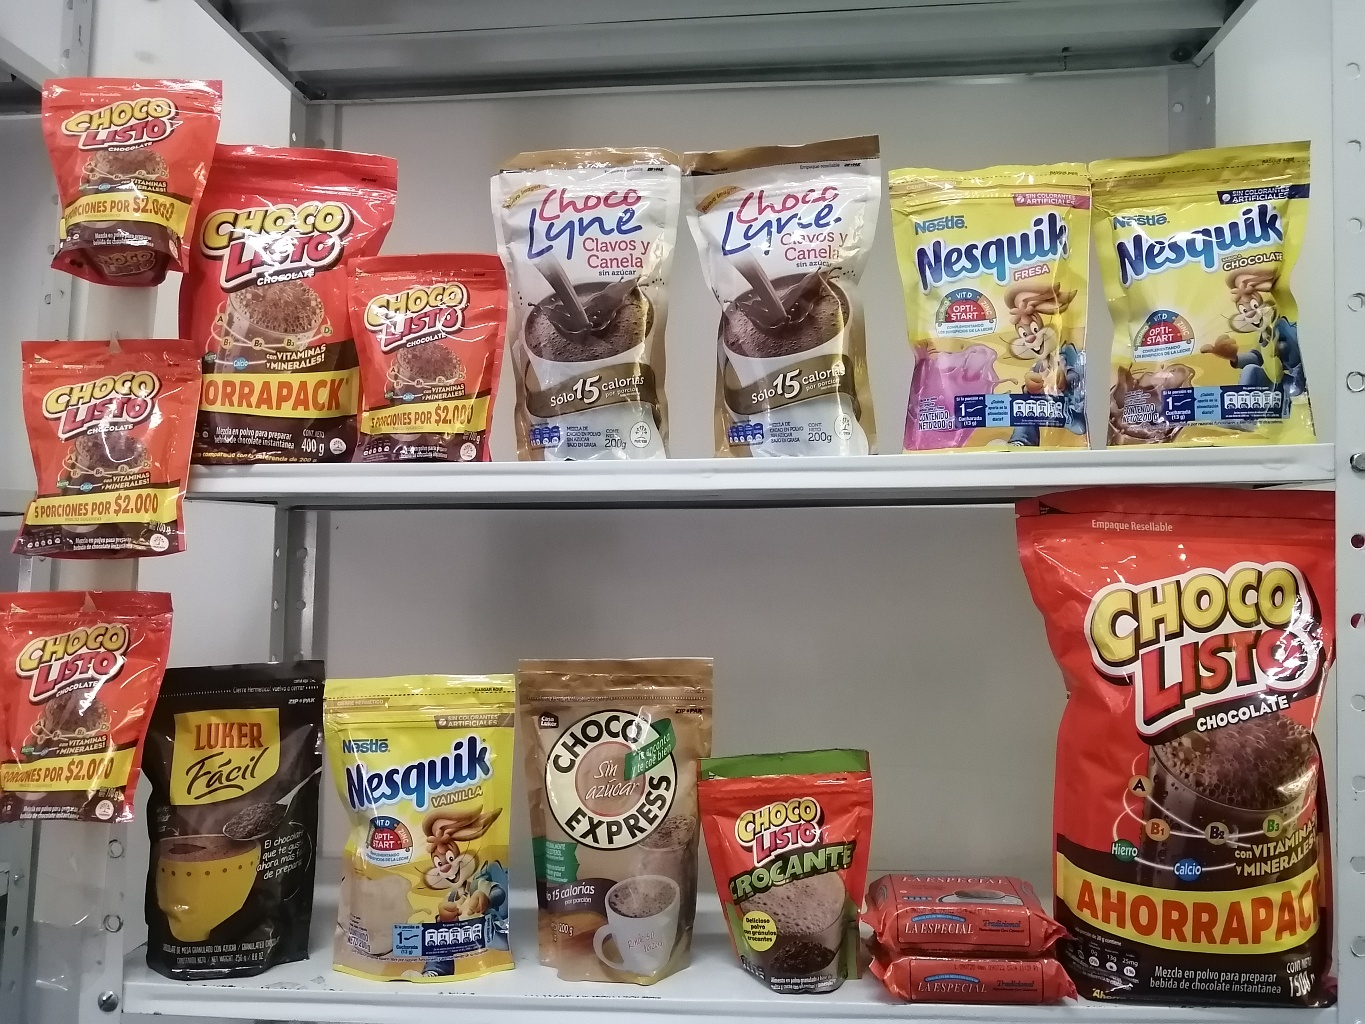COL0170102DYP10000: (694, 743, 876, 993)
COL0170103DYP1,500: (1012, 489, 1337, 1010)
COL0170103DYP10000: (40, 69, 227, 286)
COL0170103DYP40000: (201, 131, 386, 463)
COL0170303DYP20000: (1091, 146, 1326, 444)
COL0170305DYP20000: (887, 159, 1091, 452)
COL0170306DYP20000: (325, 679, 518, 984)
